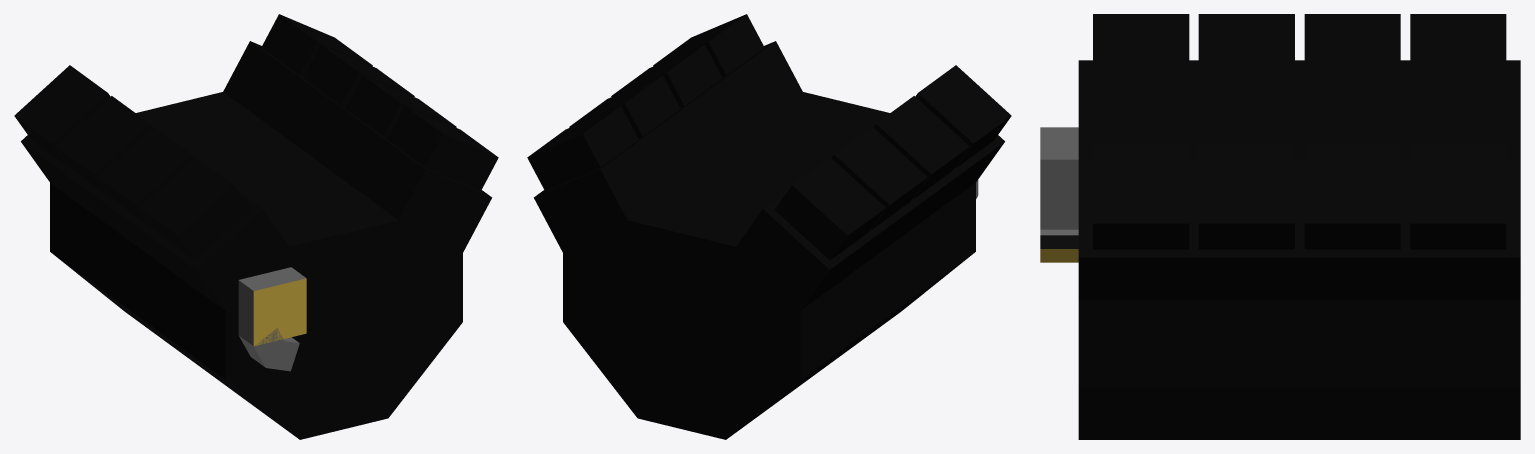
Rendered from v8torquelinelightturbo.obj.
3 views of the same model, side by side, from view 1: azimuth 30°, elevation 25°; view 2: azimuth 150°, elevation 25°; view 3: azimuth 270°, elevation 25° (orthographic). The views are drawn at different scales.
Visible parts, largest first — view 1: cube, turbo; view 2: cube; view 3: cube, turbo.
Part boxes in pixels (left/top/right/bottom): cube: left=14, top=14, right=498, bottom=439; turbo: left=238, top=267, right=306, bottom=371; cube: left=527, top=14, right=1011, bottom=439; cube: left=1078, top=14, right=1520, bottom=439; turbo: left=1040, top=127, right=1078, bottom=262.
Bounding box in the file's own units: 1.25 × 0.9899 × 1.29.
